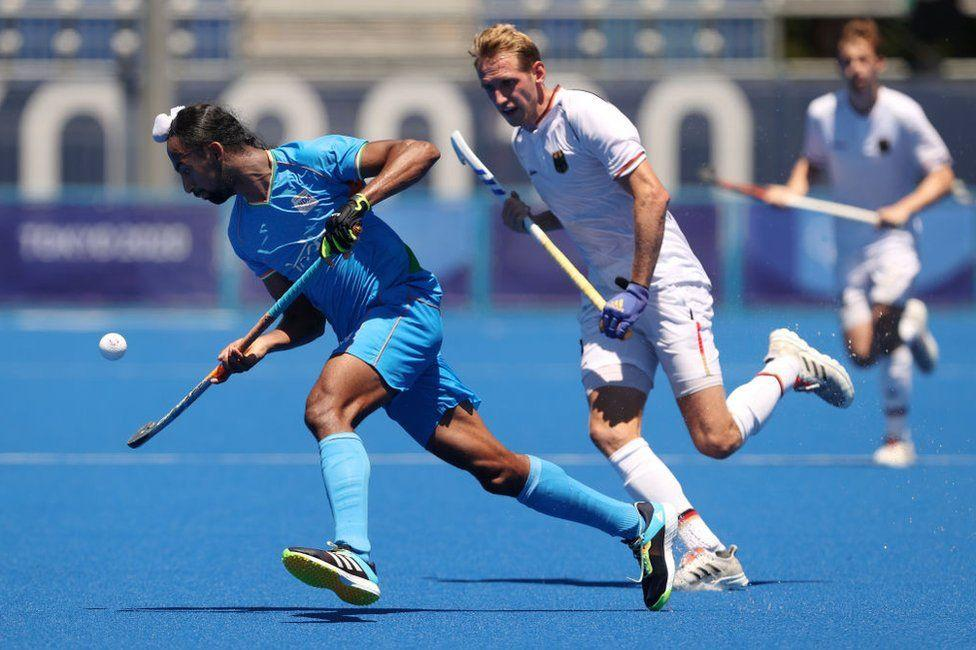ball: (89, 323, 147, 369)
